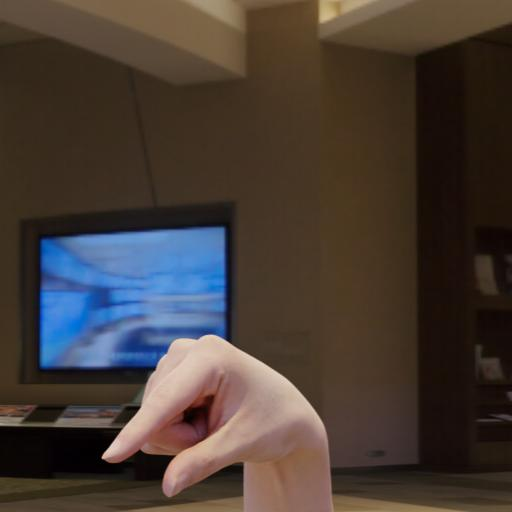Q: (86, 320, 358, 512)
